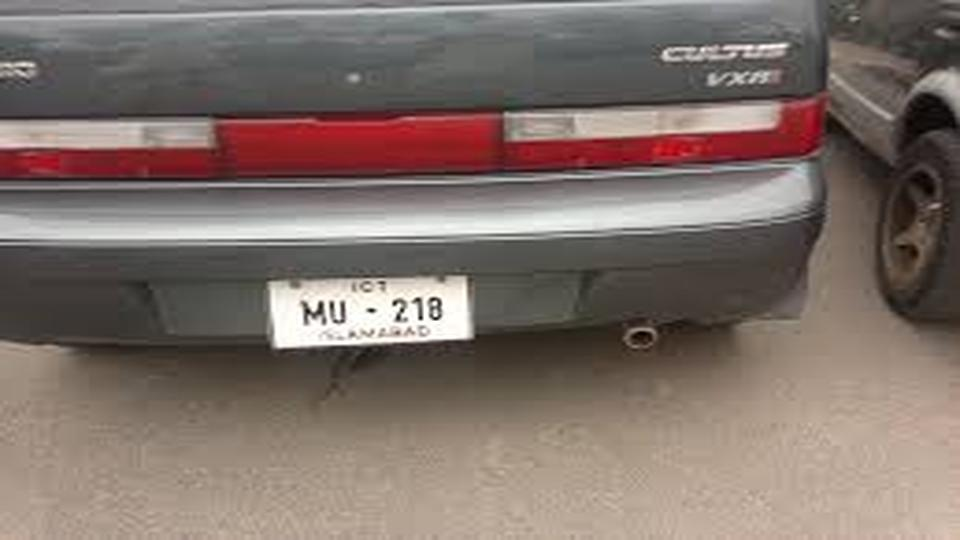NumberPlate: (244, 261, 491, 362)
